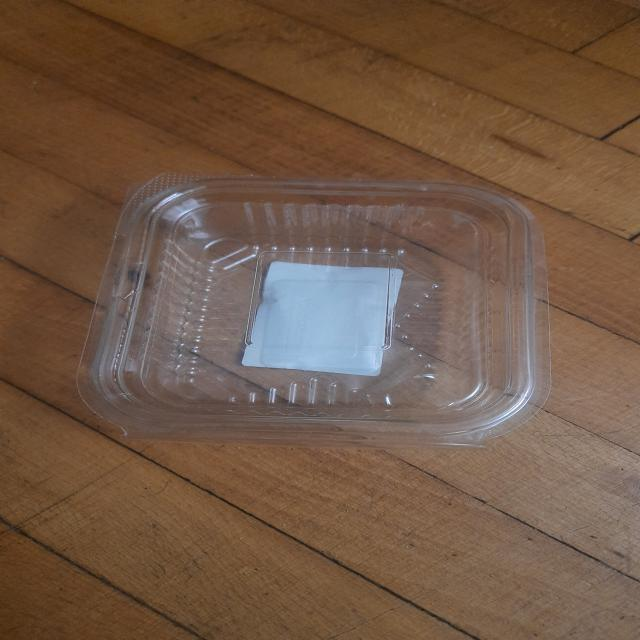plastic: (74, 150, 562, 458)
